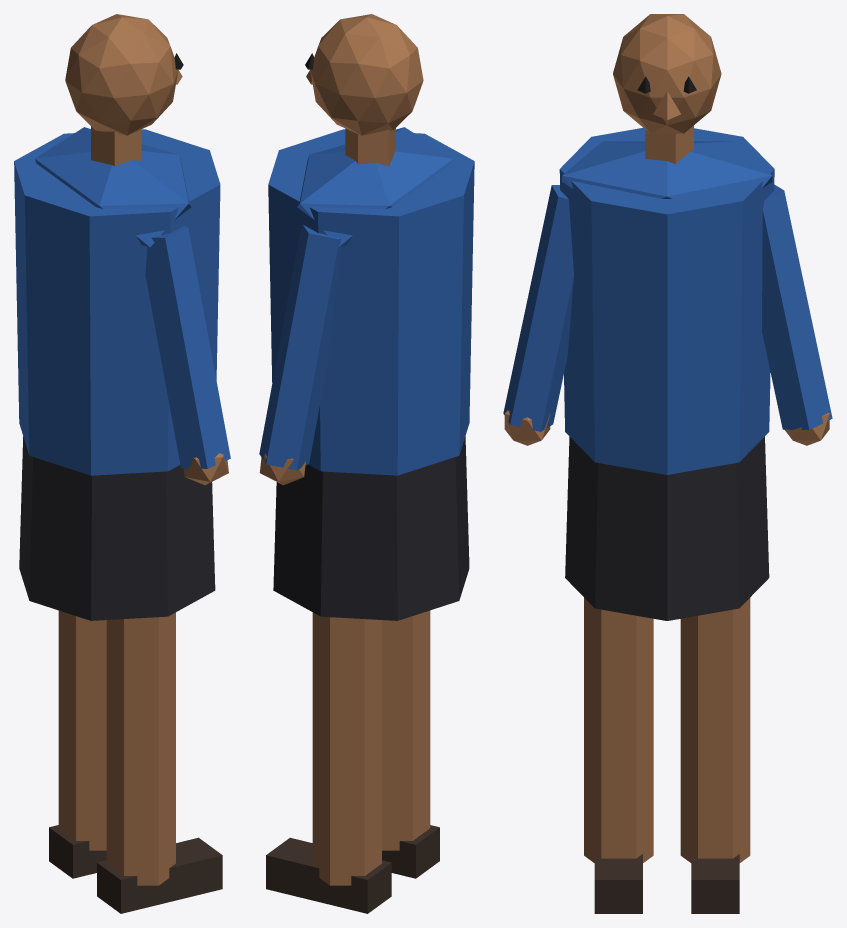
File: barn_2.glb
3 renders of one model, left to right at view 1: azimuth 30°, elevation 25°; view 2: azimuth 150°, elevation 25°; view 3: azimuth 270°, elevation 25°, orthographic.
Visible parts, largest first — view 1: barn_2; view 2: barn_2; view 3: barn_2.
Boxes of the visible parts, x1,y1,x2,y2 form: barn_2: (14,14,230,913); barn_2: (259,14,474,913); barn_2: (503,14,832,913).
Size of the model in its own units: 0.2857 by 1.27 by 0.4377.
